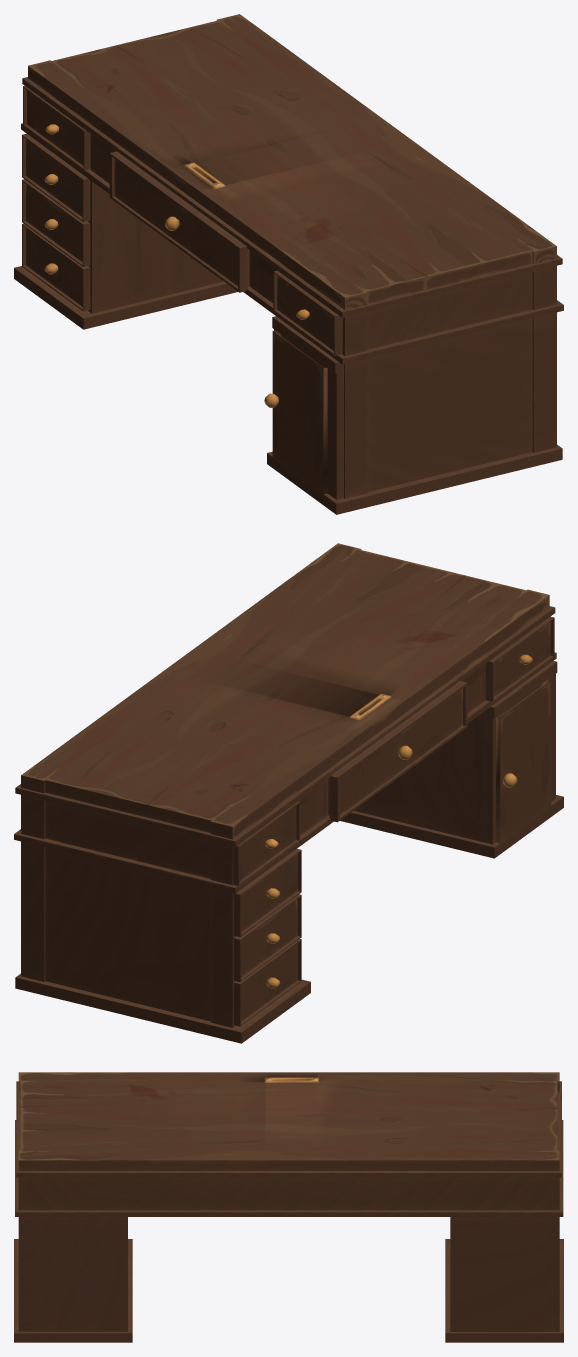
Rendered from Mesa2.fbx.
The picture shows the model from 3 angles, top to bottom: view 1: azimuth 30°, elevation 25°; view 2: azimuth 150°, elevation 25°; view 3: azimuth 270°, elevation 25°; orthographic projection. The views are drawn at different scales.
Parts seen in each view (by area): view 1: Cube.016, Cube.065, Cube.063; view 2: Cube.016, Cube.065, Cube.063; view 3: Cube.016.
Boxes of the visible parts, box(x1,y1,x2,y2) form: Cube.016: box(14, 14, 563, 514); Cube.065: box(273, 270, 342, 355); Cube.063: box(23, 85, 90, 170); Cube.016: box(14, 543, 563, 1043); Cube.065: box(485, 616, 554, 701); Cube.063: box(233, 801, 299, 885); Cube.016: box(14, 1072, 563, 1342).
Size of the model in its own units: 226 by 193 by 528.
